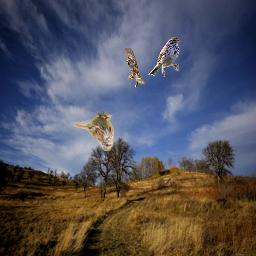Sparrow: (74, 111, 114, 151), (148, 37, 181, 77), (125, 48, 146, 88)
